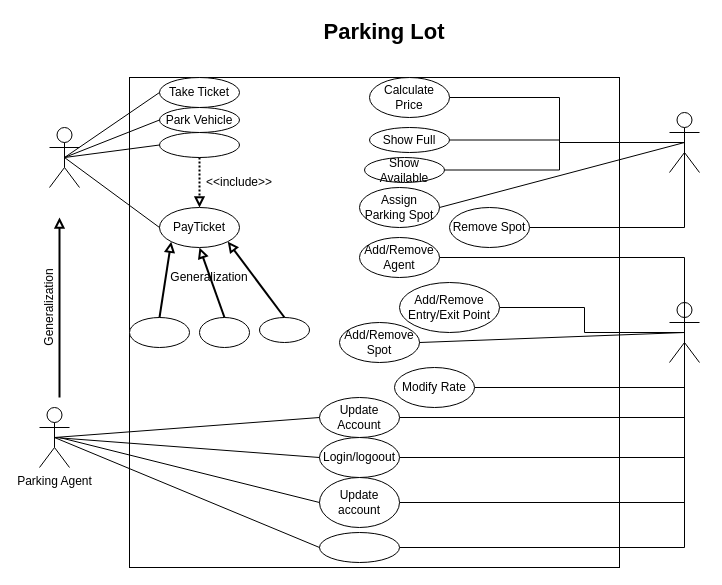
Some shapes in this 722 by 585 pixel diagram are drawn without their labels. The shapes that lost their labels are listed below. From the top down, each one's centre as x and y in pixels, then its label:
At (x=64, y=157): "Customer".
At (x=199, y=145): "Scan Ticket".
At (x=684, y=142): "System".
At (x=159, y=332): "Cash".
At (x=224, y=332): "Card".
At (x=284, y=329): "UPI".
At (x=684, y=332): "Admin".
At (x=359, y=547): "View Account".
